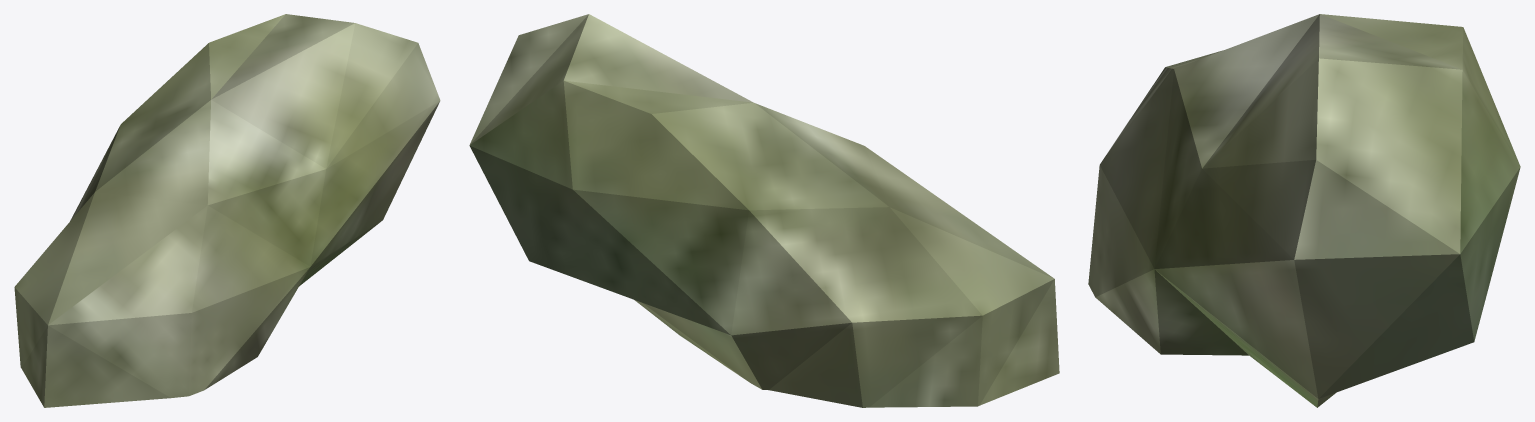
3 views of the same model, side by side, from view 1: azimuth 30°, elevation 25°; view 2: azimuth 150°, elevation 25°; view 3: azimuth 270°, elevation 25° (orthographic). The views are drawn at different scales.
Bounding box in the file's own units: 0.4168 × 0.2376 × 0.2273.
Materials: 1 (1 with a texture image).
